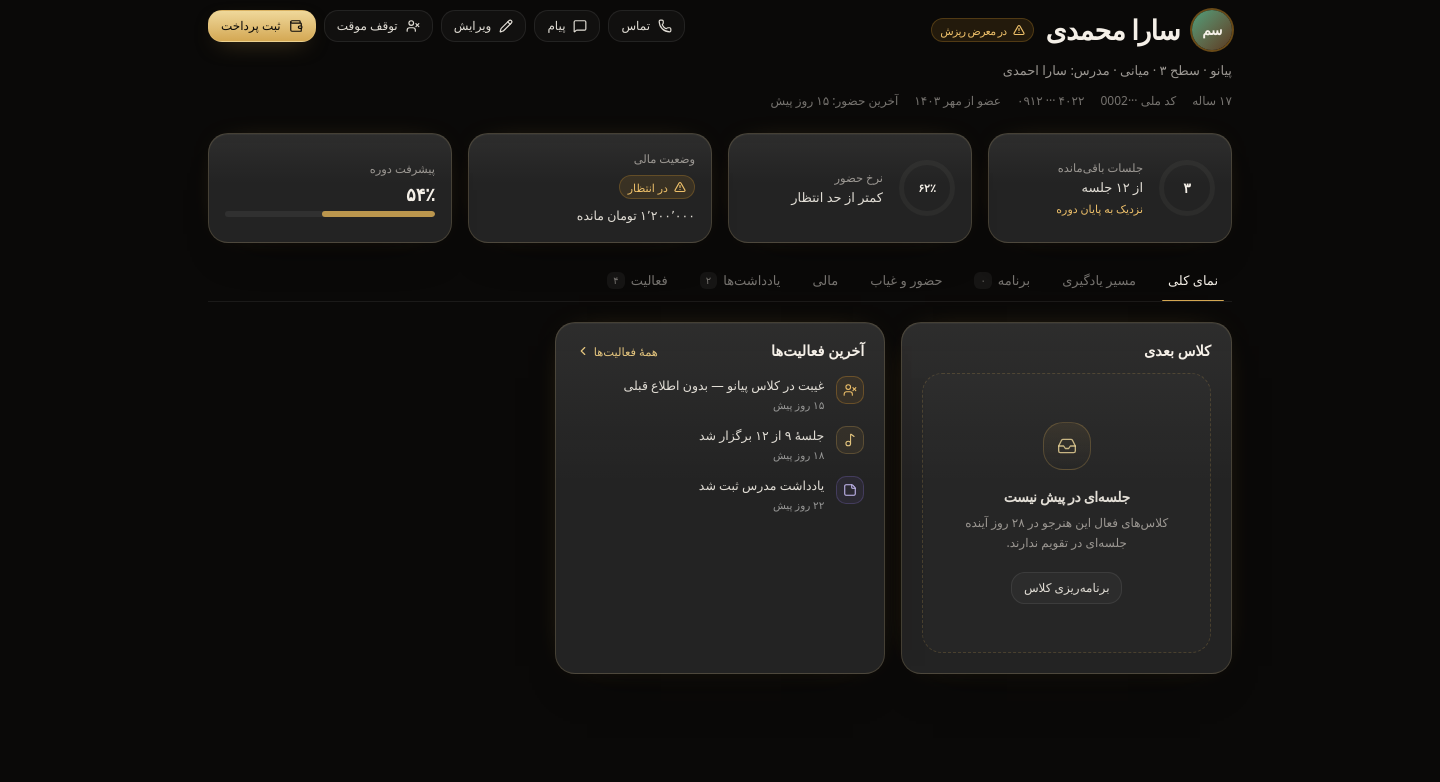
Test: student profile on a dataset persisted by an older build › maps real progress data into the profile
What coordinates should you click on to do the following:
click the tab "مسیر یادگیری"
I would click on:
 (1099, 284)
Its box is 1048,267 -> 1150,301.
(page scrolled)
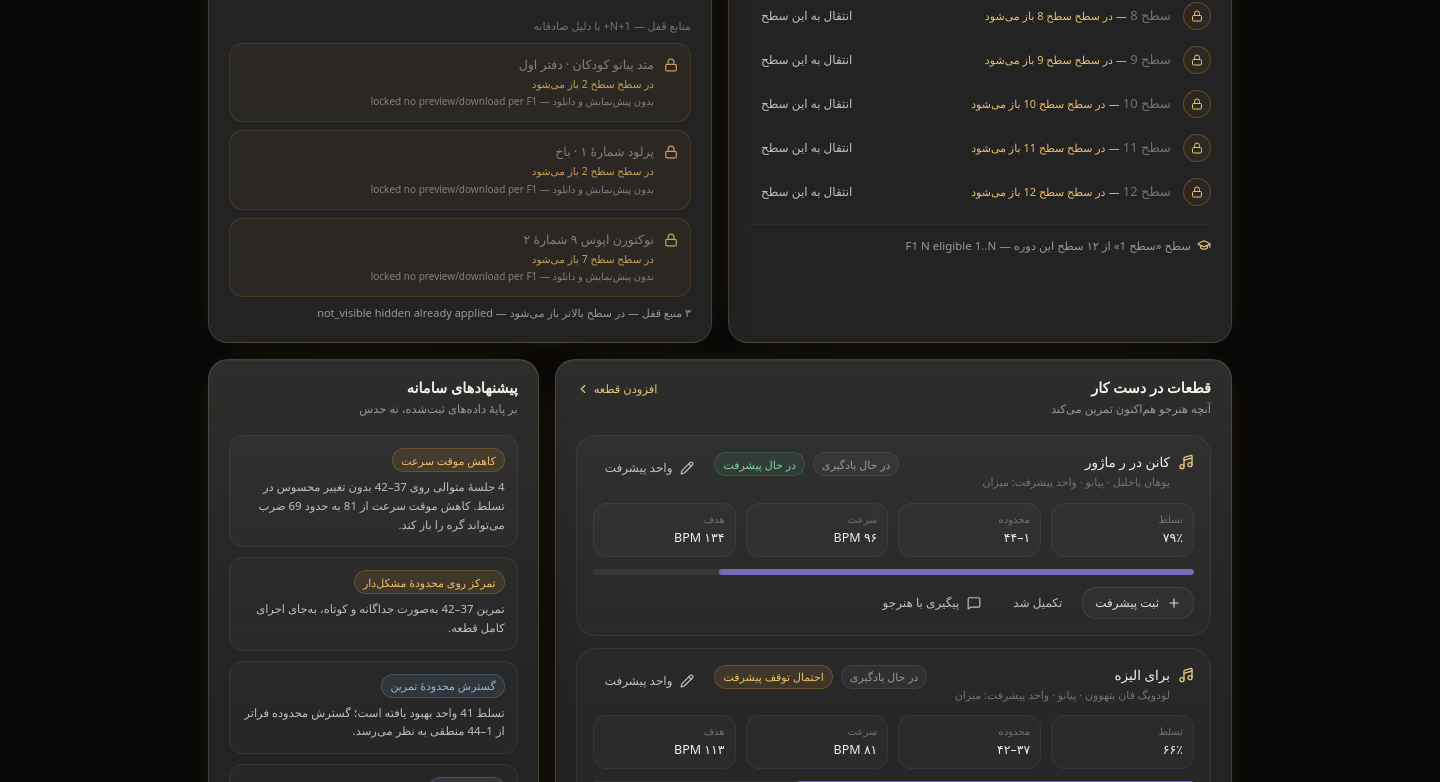
Check: the heading "قطعات در دست کار" is shown, box 1091,380 -> 1211,394
